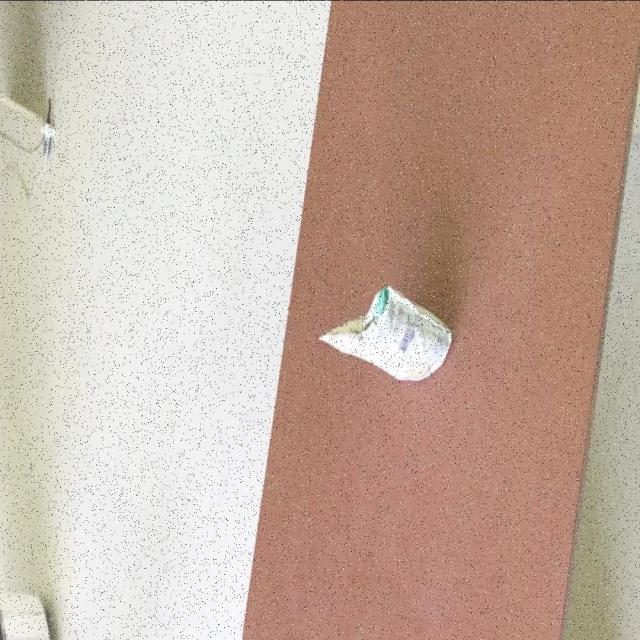CornFlakes: (318, 285, 452, 384)
